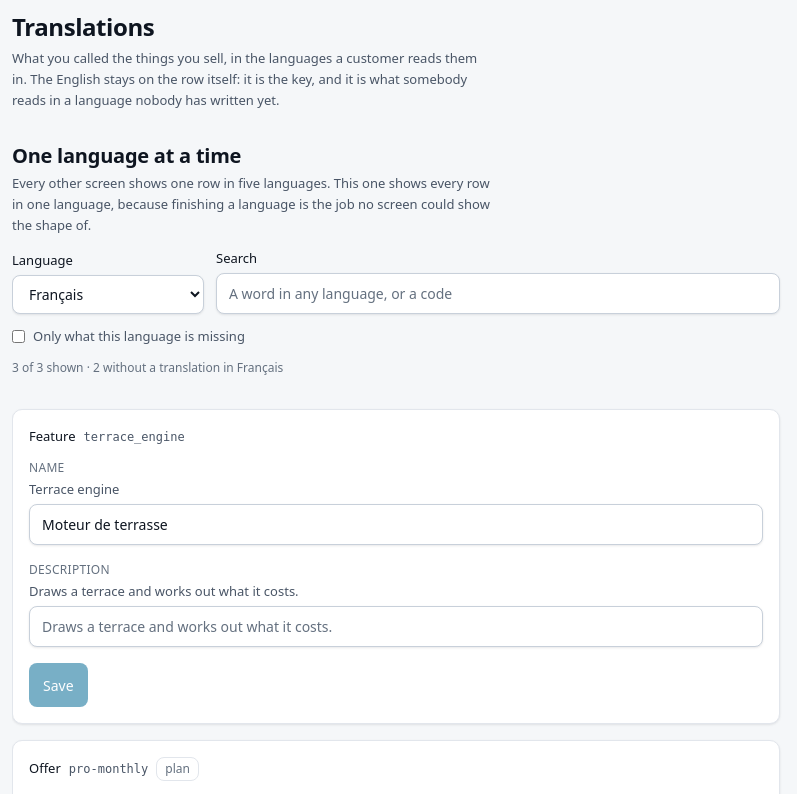
Scenario: the filter › keeps only what the chosen language is missing when asked
Click the checkbox with test id "translation-only-missing".
click(18, 336)  # box x1=12 y1=330 x2=25 y2=343
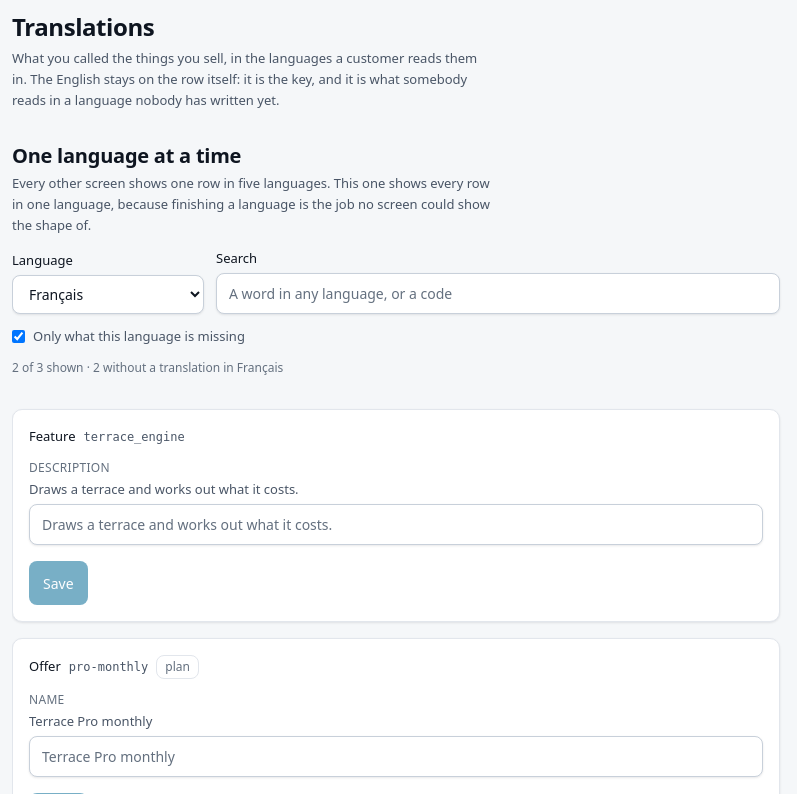
Expected: the field with test id "translation-feature-terrace_engine-description" is shown, x1=29 y1=504 x2=763 y2=545
Now the field with test id "translation-feature-terrace_engine-name" is gone
